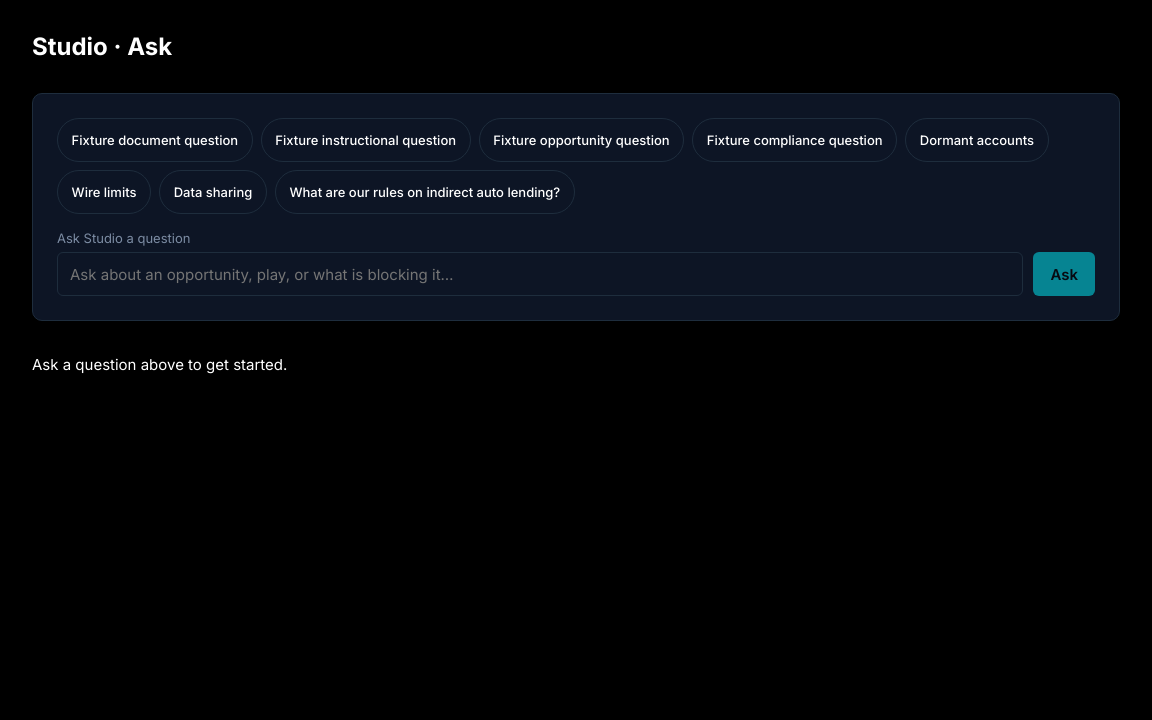
Test case: AC-A20-5 — layout-per-type (four fixture entries, one per responseType) › compliance-attainment renders a StatCard + DrawerContent(kind: domain) whose field values match the live DOMAINS record for the fixture domainKey
Type "Fixture compliance question" into the field labelled "Ask Studio a question" at [540, 274], box [57,252,1023,296]
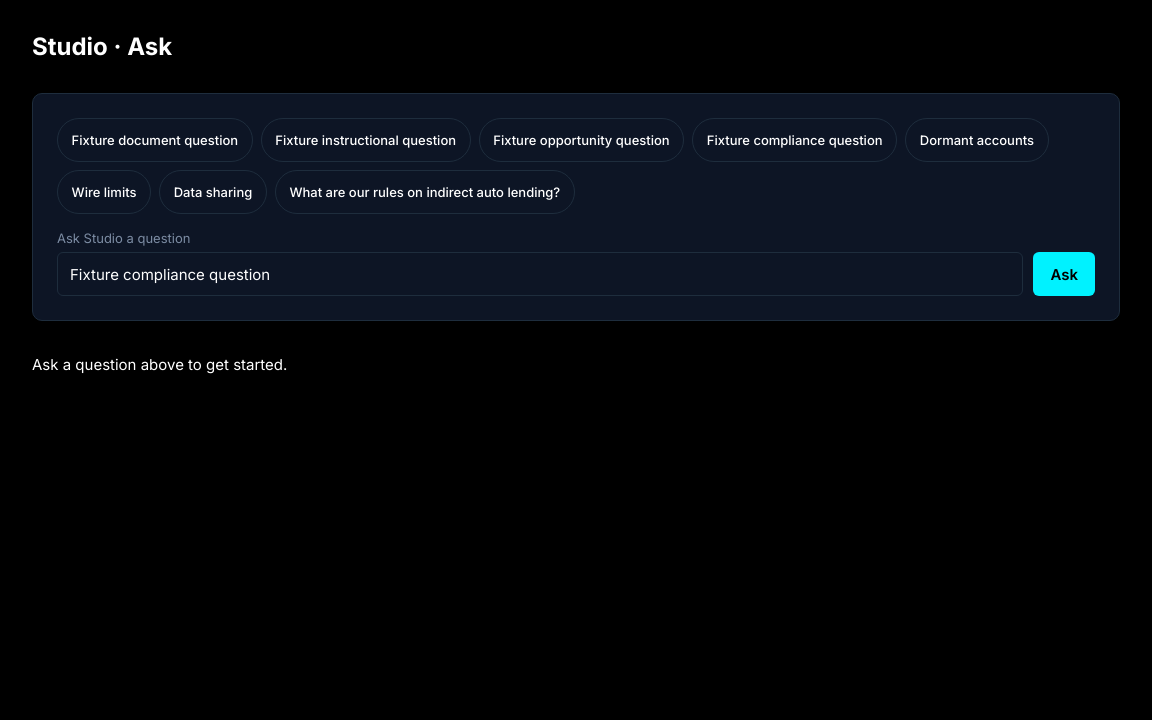
Click the button "Ask" at [1064, 274], box [1033,252,1095,296]
Wait 800 ms
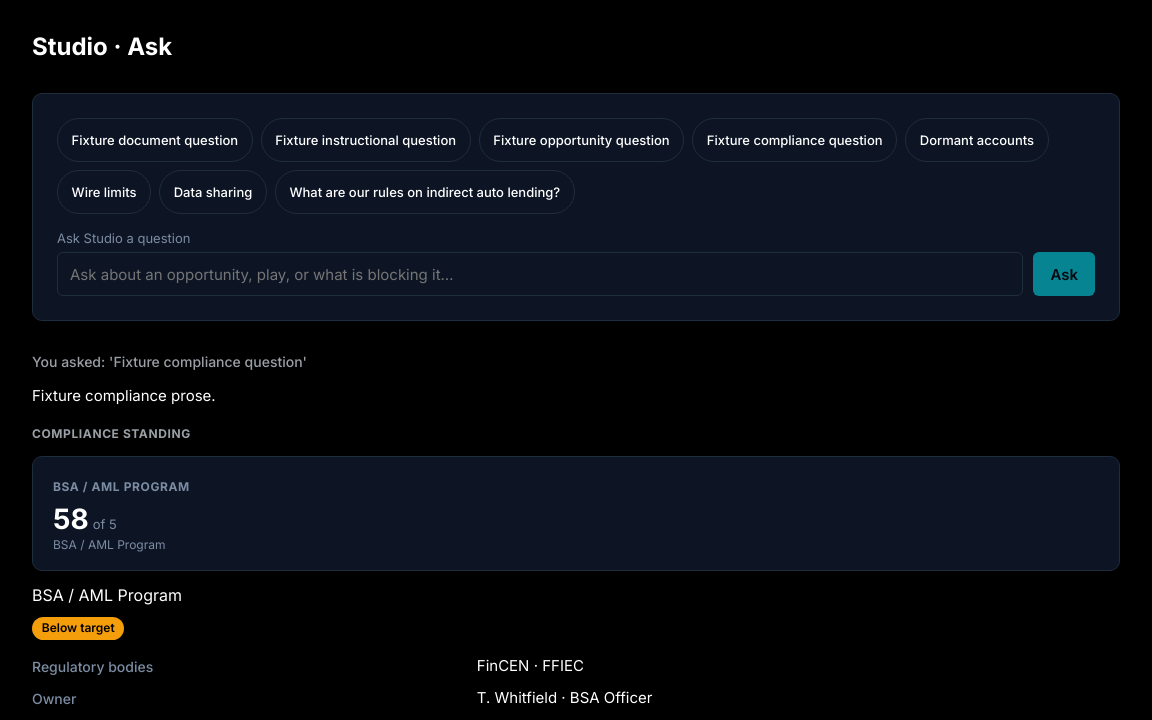
Check: the 1st text "BSA / AML Program" is shown, box [53,479,190,494]
Check: the text "FinCEN · FFIEC" is shown, box [477,656,584,675]
Check: the text "T. Whitfield · BSA Officer" is shown, box [477,688,652,707]
